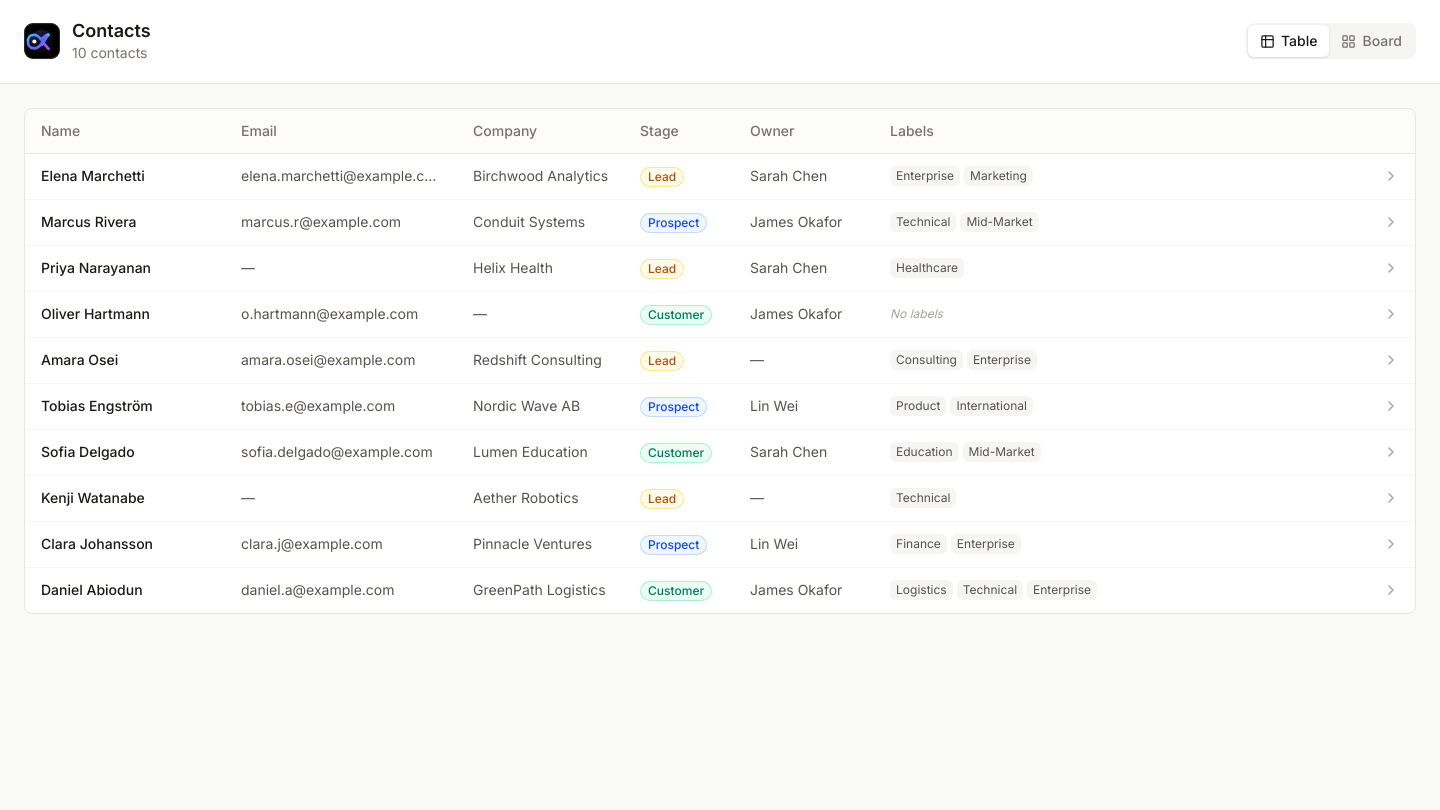
Test: App Component Integration › opens contact details panel from table view and displays all 8 fields
# Click on Elena Marchetti row
Click the button with aria-label "open details for elena marchetti": [93, 176] box top-left (25, 153), bottom-right (1415, 199)
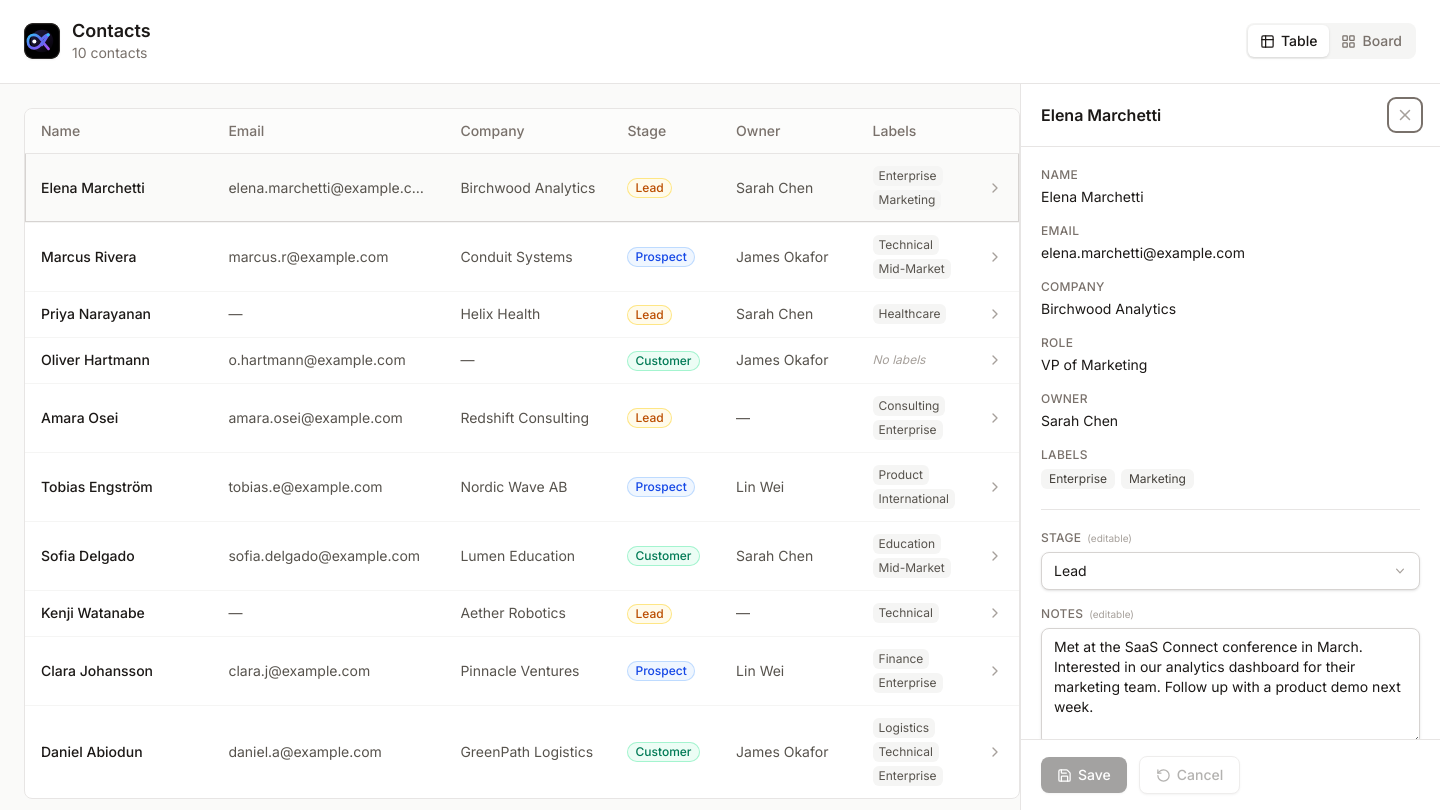
expect the dialog named "details for elena marchetti" is shown: met, box top-left (1020, 84), bottom-right (1439, 809)
expect the dialog named "details for elena marchetti" shows "elena.marchetti@example.com": met, box top-left (1041, 244), bottom-right (1245, 260)
expect the dialog named "details for elena marchetti" shows "Birchwood Analytics": met, box top-left (1041, 300), bottom-right (1176, 316)
